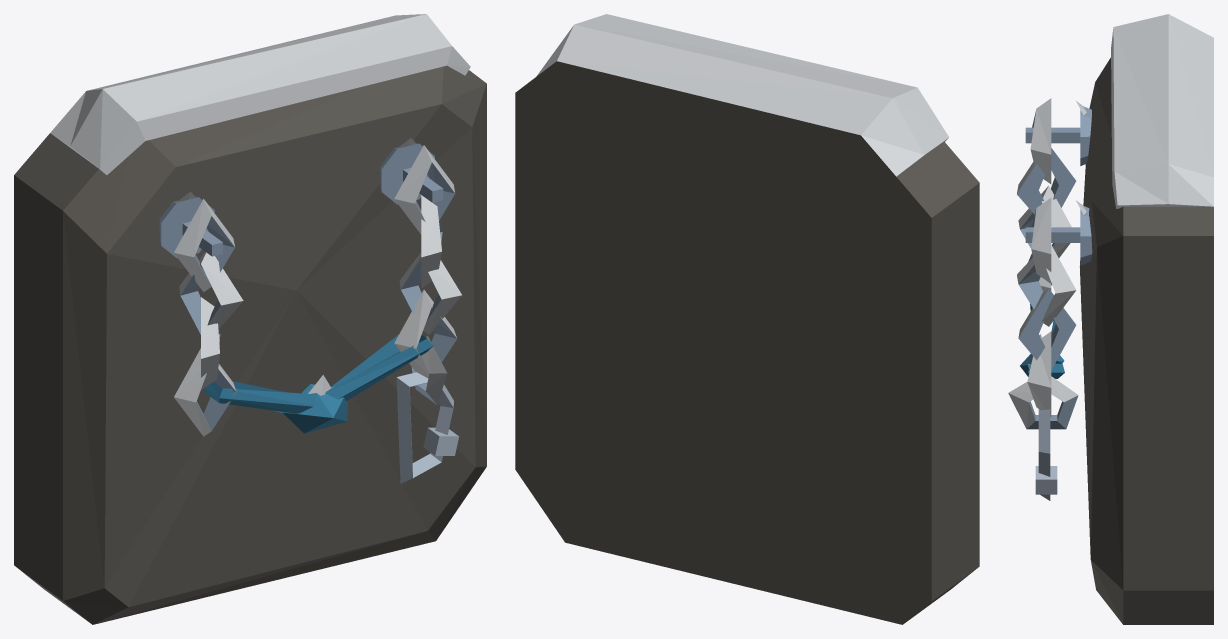
File: rock-climbing-anchor-8ddf1c.glb
The picture shows the model from 3 angles, left to right: view 1: azimuth 30°, elevation 25°; view 2: azimuth 150°, elevation 25°; view 3: azimuth 270°, elevation 25°; orthographic projection. The views are drawn at different scales.
Parts seen in each view (by area): view 1: anchor, sling-mesh, krab-mesh; view 2: anchor; view 3: anchor, krab-mesh, sling-mesh.
Boxes of the visible parts, box(x1,y1,x2,y2) form: anchor: box(14, 14, 486, 624); sling-mesh: box(203, 334, 432, 433); krab-mesh: box(396, 372, 458, 483); anchor: box(515, 14, 979, 624); anchor: box(1008, 14, 1213, 624); krab-mesh: box(1035, 409, 1057, 500); sling-mesh: box(1020, 283, 1064, 378).
Bounding box in the file's own units: 0.5 × 0.5745 × 0.2271.
